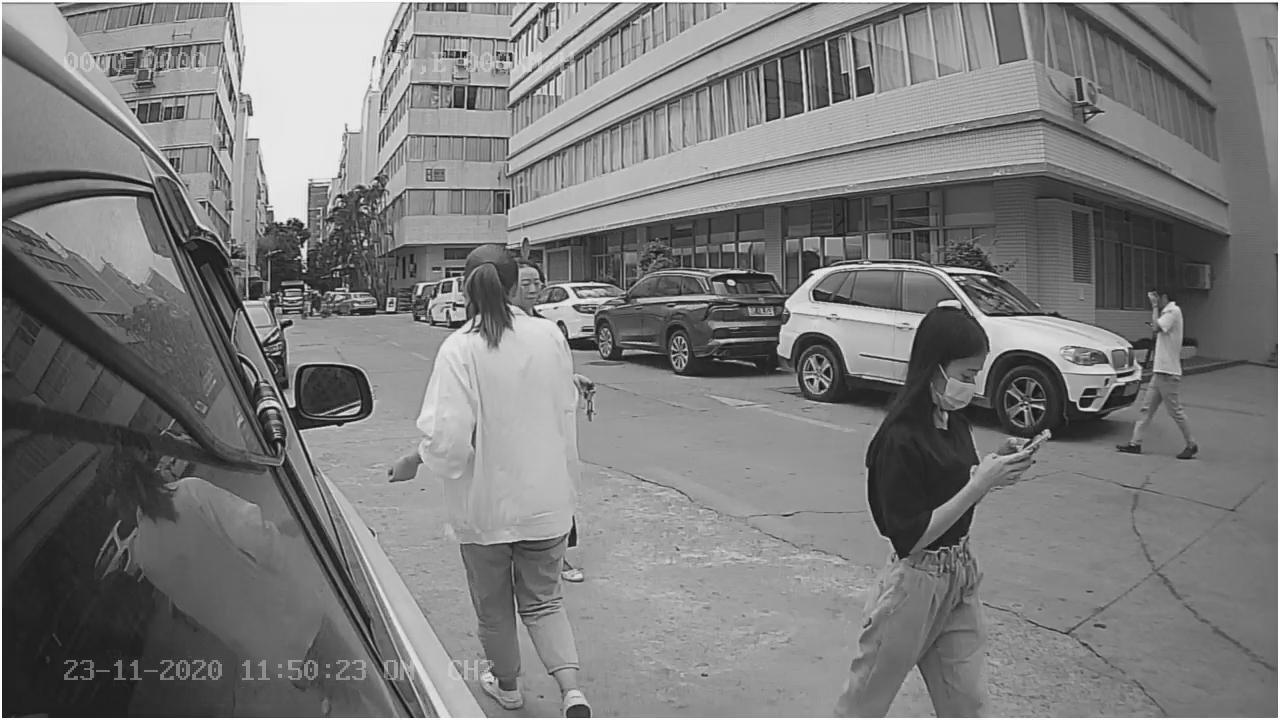person: (864, 306, 1054, 565), (1111, 277, 1201, 459)
